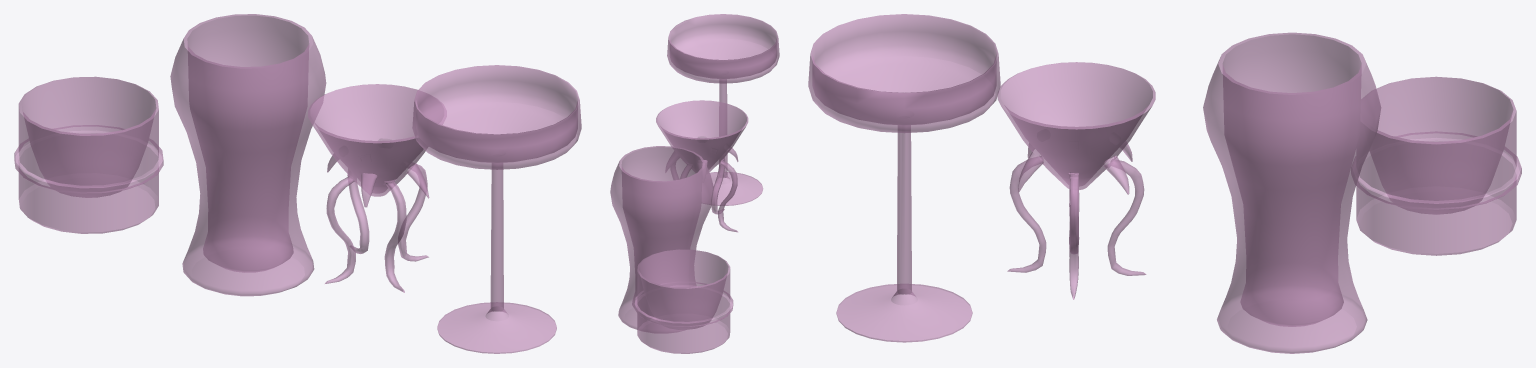
The model's file is glasses.fbx.
The picture shows the model from 3 angles, left to right: view 1: azimuth 30°, elevation 25°; view 2: azimuth 150°, elevation 25°; view 3: azimuth 270°, elevation 25°; orthographic projection. The views are drawn at different scales.
Parts seen in each view (by area): view 1: GLASS3, GLASS1, GLASS4, GLASS2; view 2: GLASS3, GLASS4, GLASS1, GLASS2; view 3: GLASS3, GLASS1, GLASS4, GLASS2.
Part boxes in pixels (box(x1,y1,x2,y2)): GLASS3: box(170, 14, 326, 296); GLASS1: box(412, 65, 581, 353); GLASS4: box(14, 76, 163, 233); GLASS2: box(308, 84, 446, 292); GLASS3: box(610, 146, 713, 332); GLASS4: box(634, 249, 733, 353); GLASS1: box(667, 14, 779, 205); GLASS2: box(656, 100, 748, 232); GLASS3: box(1203, 32, 1381, 353); GLASS1: box(808, 14, 1000, 342); GLASS4: box(1351, 76, 1521, 255); GLASS2: box(997, 62, 1155, 299).
Bounding box in the file's own units: 40.99 × 34.83 × 71.24.
